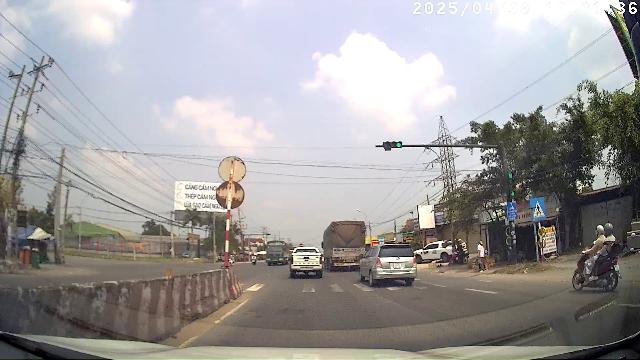423a-duong-nguoi-di-bo-sang-ngang-1: (532, 199, 546, 219)
